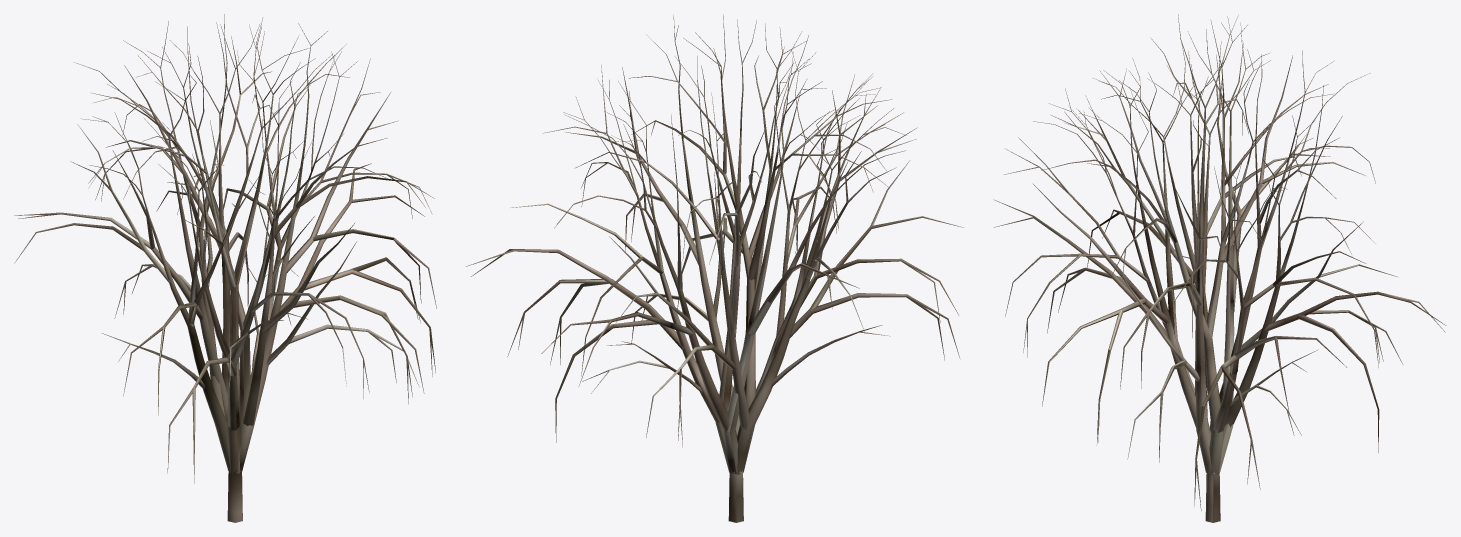
Rendered from Trees-2-tex.fbx.
3 renders of one model, left to right at view 1: azimuth 30°, elevation 25°; view 2: azimuth 150°, elevation 25°; view 3: azimuth 270°, elevation 25°, orthographic. The views are drawn at different scales.
Parts seen in each view (by area): view 1: tree.002; view 2: tree.002; view 3: tree.002.
Part boxes in pixels (bbox=[...]): tree.002: bbox=[14, 14, 436, 522]; tree.002: bbox=[466, 14, 963, 522]; tree.002: bbox=[993, 14, 1446, 522].
Size of the model in its own units: 498 by 576 by 494.
